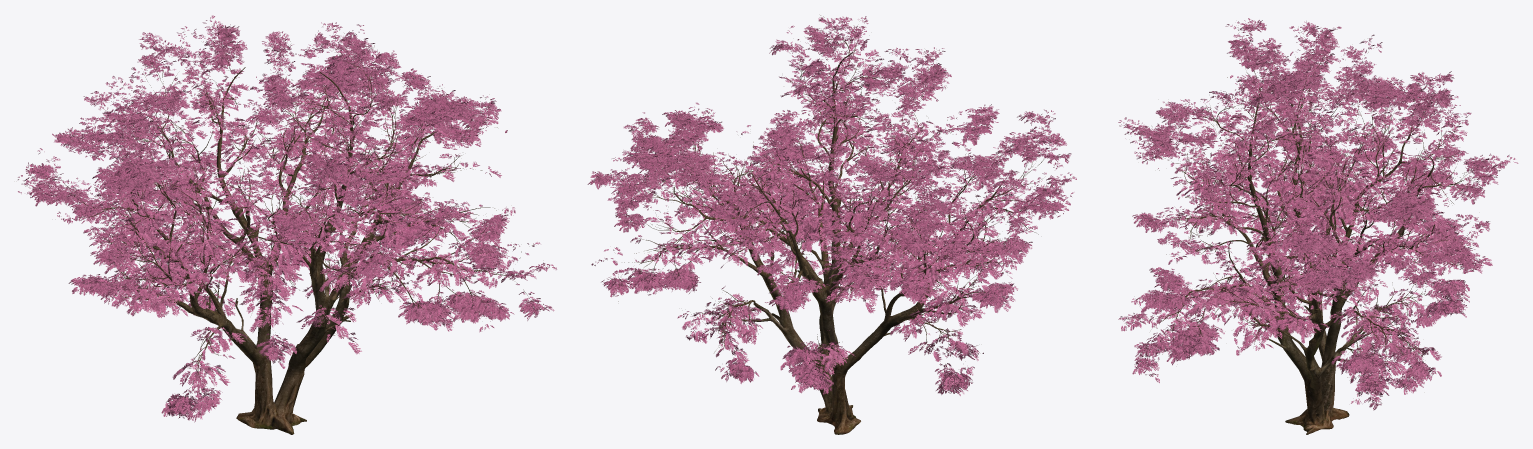
Rendered from cerezo.glb.
3 views of the same model, side by side, from view 1: azimuth 30°, elevation 25°; view 2: azimuth 150°, elevation 25°; view 3: azimuth 270°, elevation 25° (orthographic). The views are drawn at different scales.
Visible parts, largest first — view 1: jacaranda_tree_LOD0; view 2: jacaranda_tree_LOD0; view 3: jacaranda_tree_LOD0.
Part boxes in pixels (left/top/right/bottom): jacaranda_tree_LOD0: left=18, top=15, right=556, bottom=434; jacaranda_tree_LOD0: left=587, top=15, right=1076, bottom=434; jacaranda_tree_LOD0: left=1118, top=18, right=1518, bottom=434.
Bounding box in the file's own units: 24.43 × 19.44 × 19.13.
Materials: 3 (3 with a texture image).
